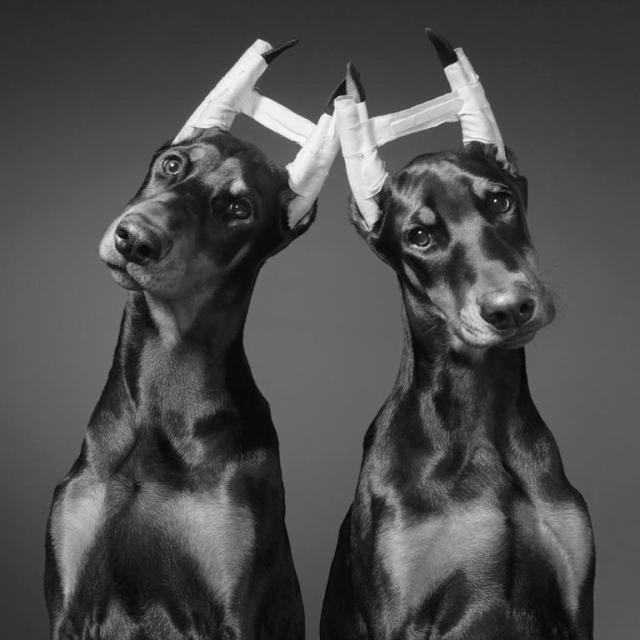Dogs: (44, 36, 358, 640), (316, 30, 598, 640)
